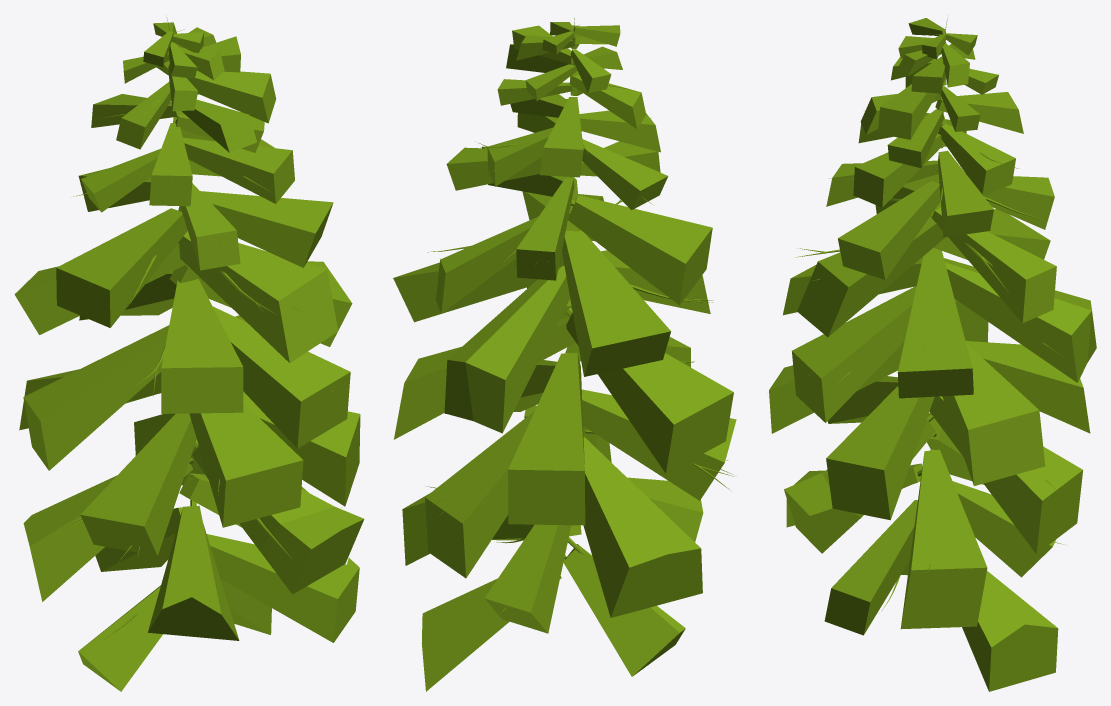
Rendered from tree-summer-leaves-15-045.glb.
3 renders of one model, left to right at view 1: azimuth 30°, elevation 25°; view 2: azimuth 150°, elevation 25°; view 3: azimuth 270°, elevation 25°, orthographic. The views are drawn at different scales.
Parts seen in each view (by area): view 1: TREE 15.001_288; view 2: TREE 15.001_288; view 3: TREE 15.001_288.
Part boxes in pixels (x1,y1,x2,y2): TREE 15.001_288: (14, 17, 364, 691); TREE 15.001_288: (393, 18, 736, 691); TREE 15.001_288: (769, 18, 1096, 691).
Bounding box in the file's own units: 0.8007 × 1.63 × 0.7878.
